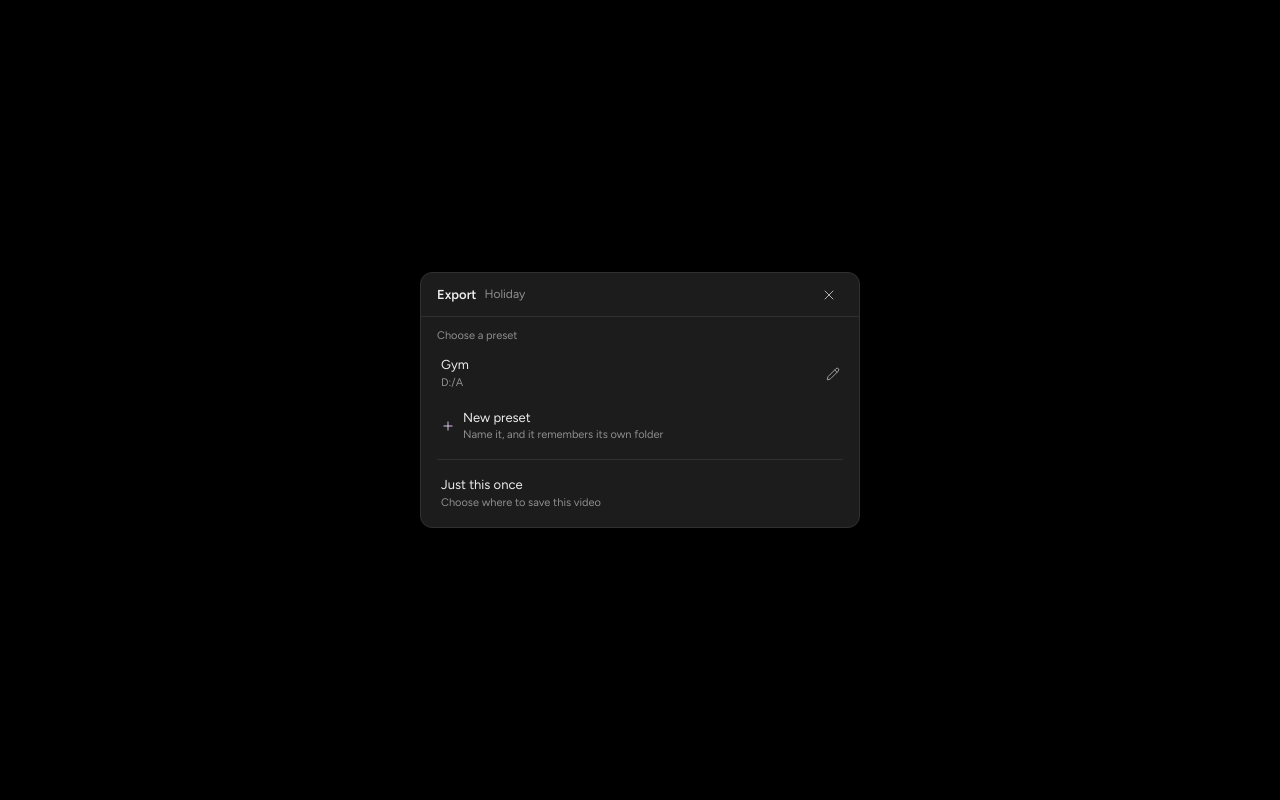
Test case: changing a preset › a blank name is refused and the old one stays
Click the button with test id "export-preset-edit": (833, 374) [819,360,847,388]
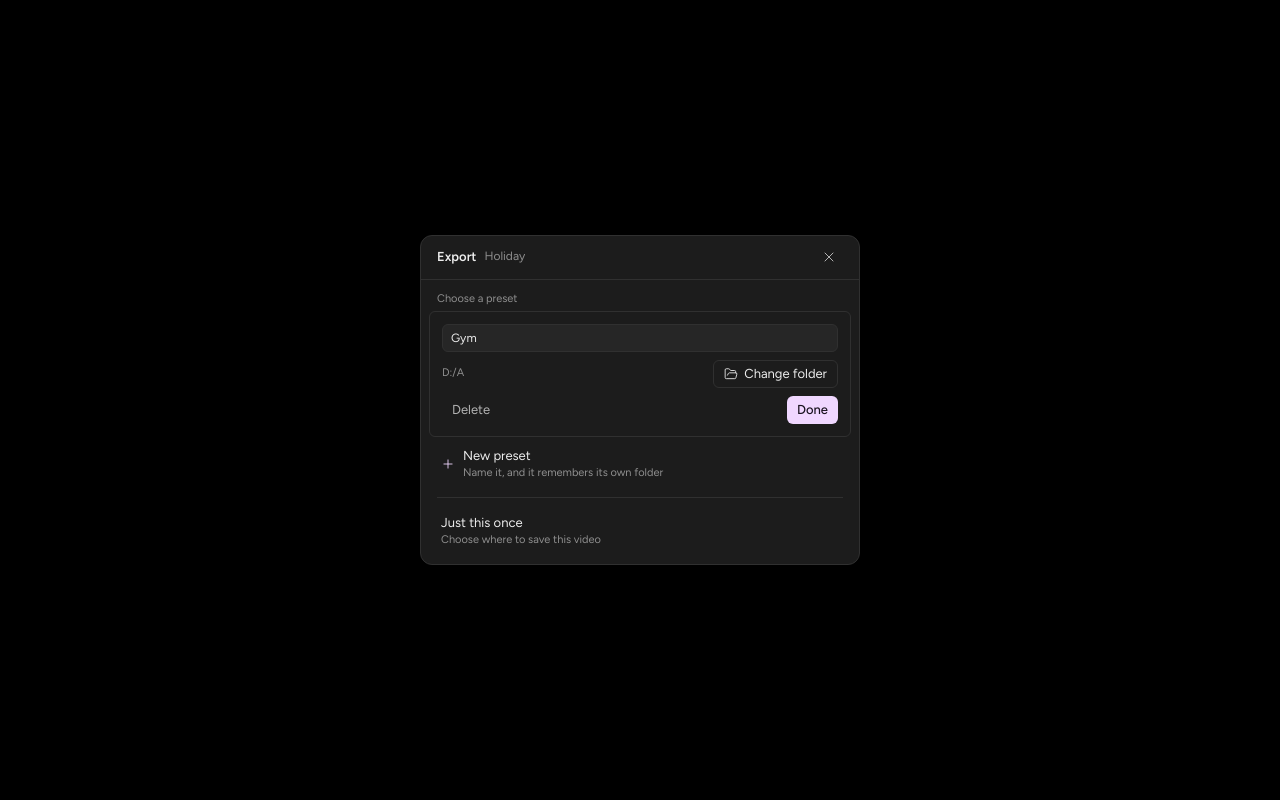
Clear the field with test id "export-preset-name": (640, 338) [442,324,838,352]
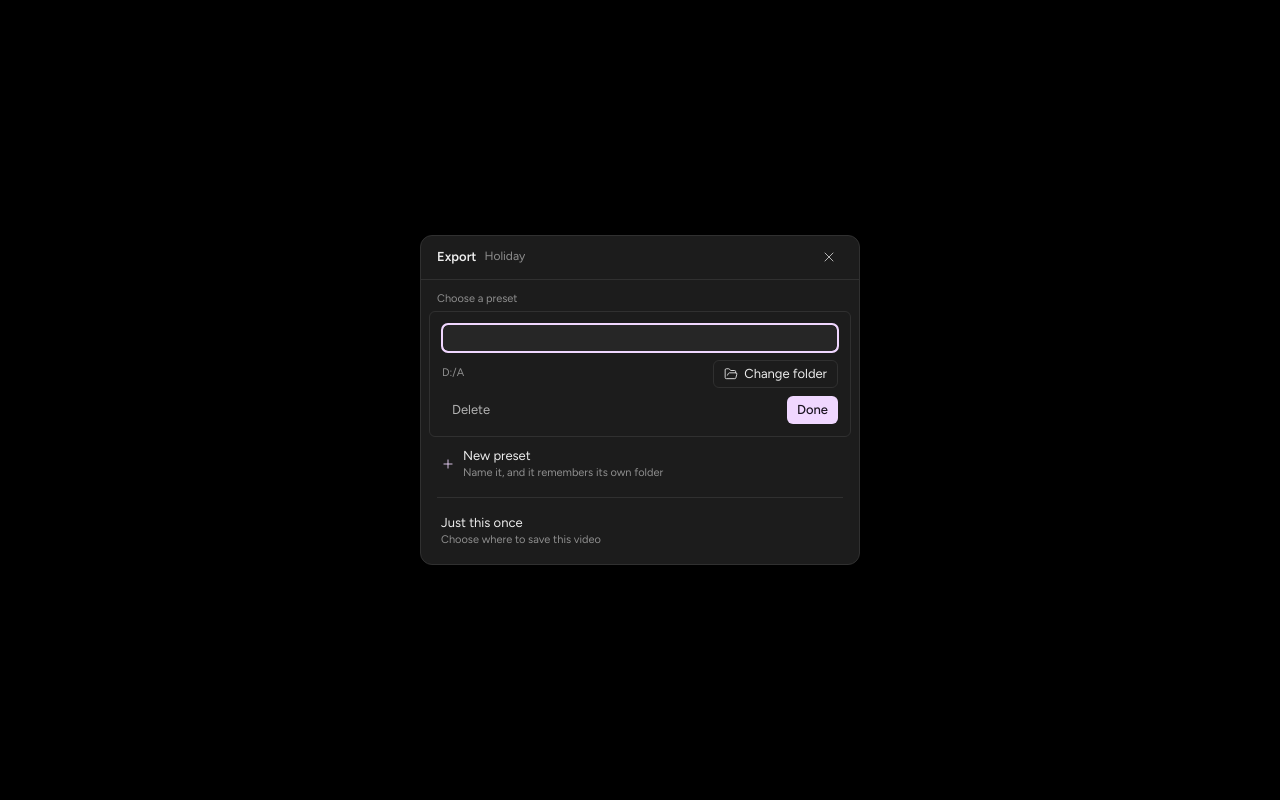
Click the button with test id "export-preset-done": (812, 410) [787,396,838,424]
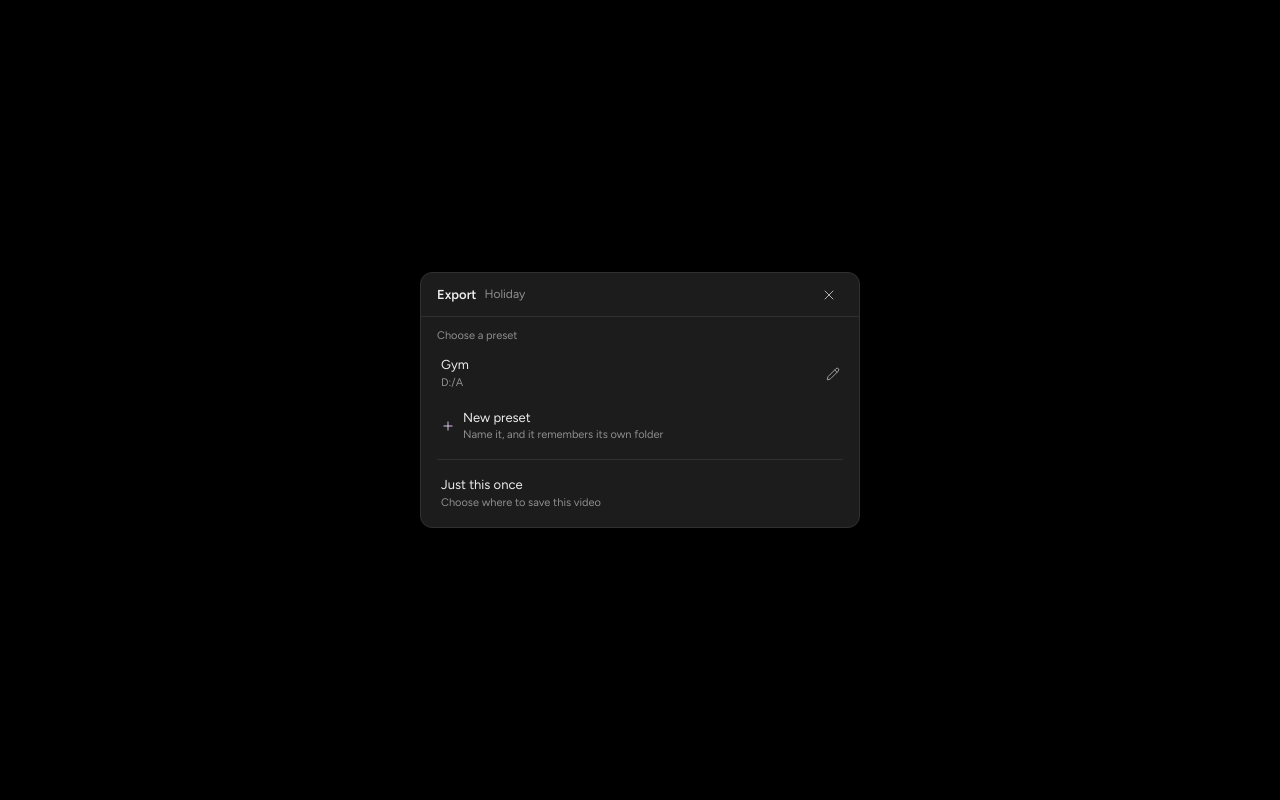
Now the element with test id "export-preset-row" shows "Gym", box [429,348,815,399]
